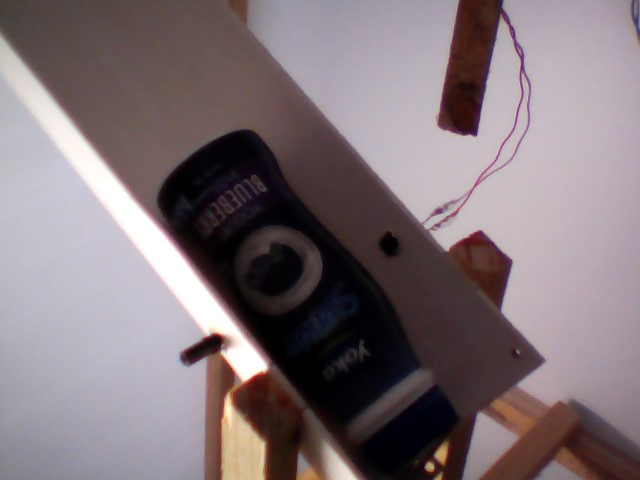plastico: (151, 126, 467, 480)
